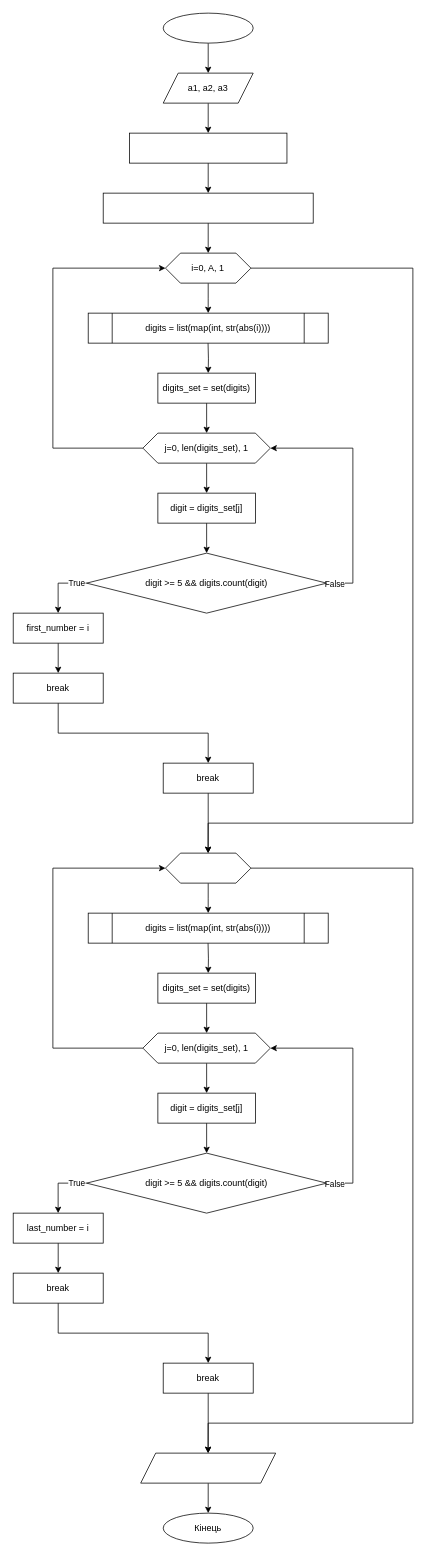
This 432x1556 diagram has some shape labels left out. Here are the shapes that lost their labels. From the top down, the centre of each, then its label:
point 207,27: Початок
point 208,147: A = a3 * 100 + a2 * 10 + a1
point 207,207: first_number, last_number = None, None
point 208,867: i=A, 0, -1
point 208,1467: first_number, last_number
